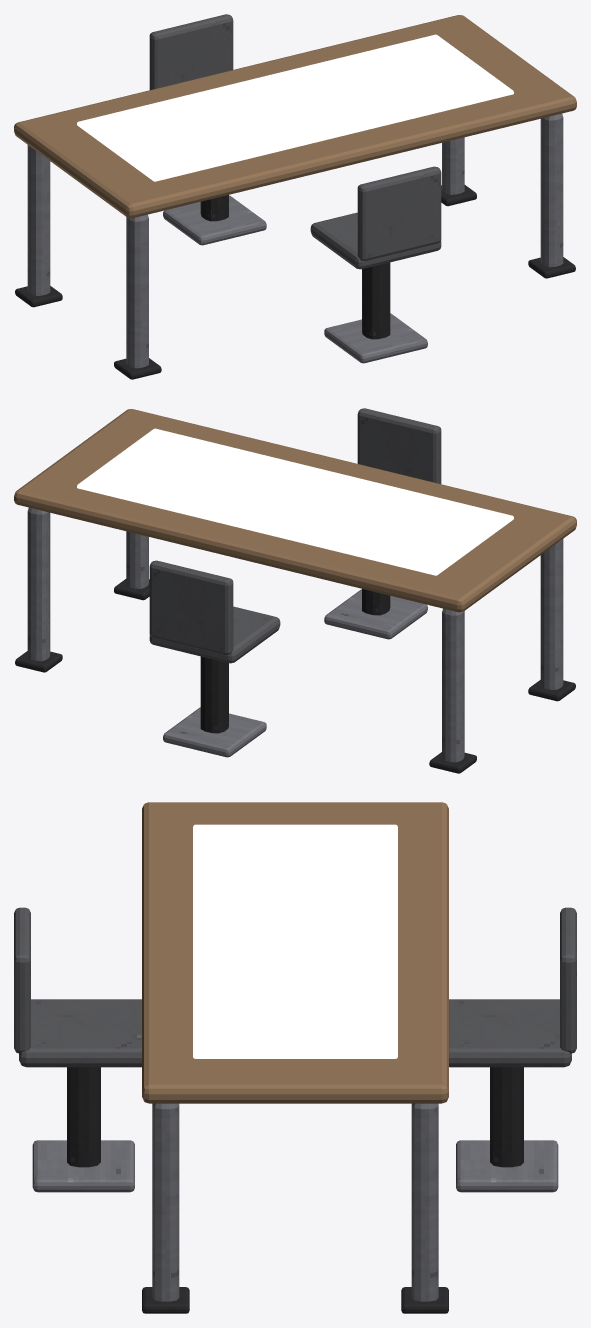
Rendered from decor_bridge_briefing_table.glb.
The picture shows the model from 3 angles, top to bottom: view 1: azimuth 30°, elevation 25°; view 2: azimuth 150°, elevation 25°; view 3: azimuth 270°, elevation 25°; orthographic projection. The views are drawn at different scales.
Parts seen in each view (by area): view 1: DEC_BridgeBriefingTable__Data_Inlay, DEC_BridgeBriefingTable__Table_Top, DEC_BridgeBriefingTable__Chair_Back_A, DEC_BridgeBriefingTable__Chair_Back_B, DEC_BridgeBriefingTable__Leg_1_-1, DEC_BridgeBriefingTable__Leg_-1_-1, DEC_BridgeBriefingTable__Leg_-1_1, DEC_BridgeBriefingTable__Chair_Foot_A, DEC_BridgeBriefingTable__Chair_Foot_B, DEC_BridgeBriefingTable__Chair_Seat_A, DEC_BridgeBriefingTable__Chair_Post_A, DEC_BridgeBriefingTable__Leg_1_1 (+4 smaller); view 2: DEC_BridgeBriefingTable__Data_Inlay, DEC_BridgeBriefingTable__Table_Top, DEC_BridgeBriefingTable__Chair_Back_B, DEC_BridgeBriefingTable__Chair_Back_A, DEC_BridgeBriefingTable__Leg_1_1, DEC_BridgeBriefingTable__Leg_-1_1, DEC_BridgeBriefingTable__Leg_-1_-1, DEC_BridgeBriefingTable__Chair_Foot_B, DEC_BridgeBriefingTable__Chair_Foot_A, DEC_BridgeBriefingTable__Chair_Seat_B, DEC_BridgeBriefingTable__Chair_Post_B, DEC_BridgeBriefingTable__Leg_1_-1 (+4 smaller); view 3: DEC_BridgeBriefingTable__Data_Inlay, DEC_BridgeBriefingTable__Table_Top, DEC_BridgeBriefingTable__Chair_Seat_A, DEC_BridgeBriefingTable__Chair_Seat_B, DEC_BridgeBriefingTable__Leg_1_1, DEC_BridgeBriefingTable__Leg_1_-1, DEC_BridgeBriefingTable__Chair_Foot_A, DEC_BridgeBriefingTable__Chair_Foot_B, DEC_BridgeBriefingTable__Chair_Post_A, DEC_BridgeBriefingTable__Chair_Post_B, DEC_BridgeBriefingTable__Chair_Back_A, DEC_BridgeBriefingTable__Chair_Back_B (+2 smaller).
Boxes of the visible parts, left/top/right/bottom form: DEC_BridgeBriefingTable__Data_Inlay: left=77, top=34, right=513, bottom=181; DEC_BridgeBriefingTable__Table_Top: left=14, top=15, right=576, bottom=218; DEC_BridgeBriefingTable__Chair_Back_A: left=357, top=166, right=441, bottom=261; DEC_BridgeBriefingTable__Chair_Back_B: left=149, top=14, right=233, bottom=89; DEC_BridgeBriefingTable__Leg_1_-1: left=540, top=113, right=563, bottom=267; DEC_BridgeBriefingTable__Leg_-1_-1: left=126, top=214, right=148, bottom=368; DEC_BridgeBriefingTable__Leg_-1_1: left=27, top=145, right=50, bottom=295; DEC_BridgeBriefingTable__Chair_Foot_A: left=324, top=313, right=427, bottom=363; DEC_BridgeBriefingTable__Chair_Foot_B: left=163, top=195, right=266, bottom=245; DEC_BridgeBriefingTable__Chair_Seat_A: left=310, top=212, right=441, bottom=269; DEC_BridgeBriefingTable__Chair_Post_A: left=362, top=262, right=390, bottom=339; DEC_BridgeBriefingTable__Leg_1_1: left=442, top=137, right=464, bottom=194; DEC_BridgeBriefingTable__Data_Inlay: left=77, top=428, right=513, bottom=575; DEC_BridgeBriefingTable__Table_Top: left=14, top=409, right=576, bottom=612; DEC_BridgeBriefingTable__Chair_Back_B: left=149, top=560, right=233, bottom=655; DEC_BridgeBriefingTable__Chair_Back_A: left=357, top=408, right=441, bottom=483; DEC_BridgeBriefingTable__Leg_1_1: left=27, top=507, right=50, bottom=661; DEC_BridgeBriefingTable__Leg_-1_1: left=442, top=608, right=464, bottom=762; DEC_BridgeBriefingTable__Leg_-1_-1: left=540, top=539, right=563, bottom=689; DEC_BridgeBriefingTable__Chair_Foot_B: left=163, top=707, right=266, bottom=757; DEC_BridgeBriefingTable__Chair_Foot_A: left=324, top=589, right=427, bottom=639; DEC_BridgeBriefingTable__Chair_Seat_B: left=149, top=606, right=280, bottom=663; DEC_BridgeBriefingTable__Chair_Post_B: left=200, top=656, right=228, bottom=733; DEC_BridgeBriefingTable__Leg_1_-1: left=126, top=531, right=148, bottom=588; DEC_BridgeBriefingTable__Data_Inlay: left=193, top=824, right=397, bottom=1058; DEC_BridgeBriefingTable__Table_Top: left=142, top=802, right=448, bottom=1103; DEC_BridgeBriefingTable__Chair_Seat_A: left=19, top=999, right=141, bottom=1067; DEC_BridgeBriefingTable__Chair_Seat_B: left=449, top=999, right=571, bottom=1067; DEC_BridgeBriefingTable__Leg_1_1: left=411, top=1103, right=438, bottom=1301; DEC_BridgeBriefingTable__Leg_1_-1: left=152, top=1103, right=179, bottom=1301; DEC_BridgeBriefingTable__Chair_Foot_A: left=32, top=1140, right=134, bottom=1192; DEC_BridgeBriefingTable__Chair_Foot_B: left=456, top=1140, right=558, bottom=1192; DEC_BridgeBriefingTable__Chair_Post_A: left=67, top=1067, right=100, bottom=1167; DEC_BridgeBriefingTable__Chair_Post_B: left=490, top=1067, right=523, bottom=1167; DEC_BridgeBriefingTable__Chair_Back_A: left=14, top=907, right=30, bottom=1053; DEC_BridgeBriefingTable__Chair_Back_B: left=560, top=907, right=576, bottom=1053.
Bounding box in the file's own units: 2 × 0.78 × 1.65.
5 materials, 3 textured.
